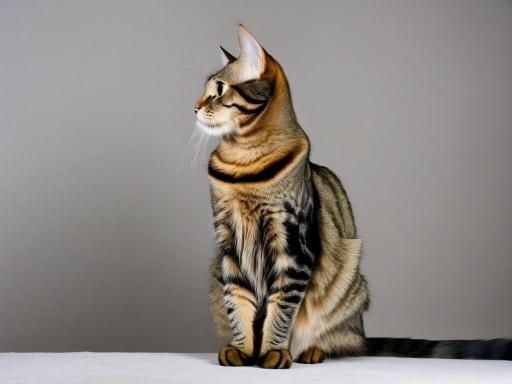cat_sitting: (194, 26, 512, 368)
